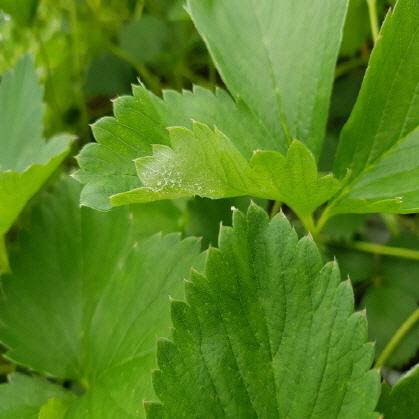Powdery Mildew Leaf: (69, 83, 352, 231)
